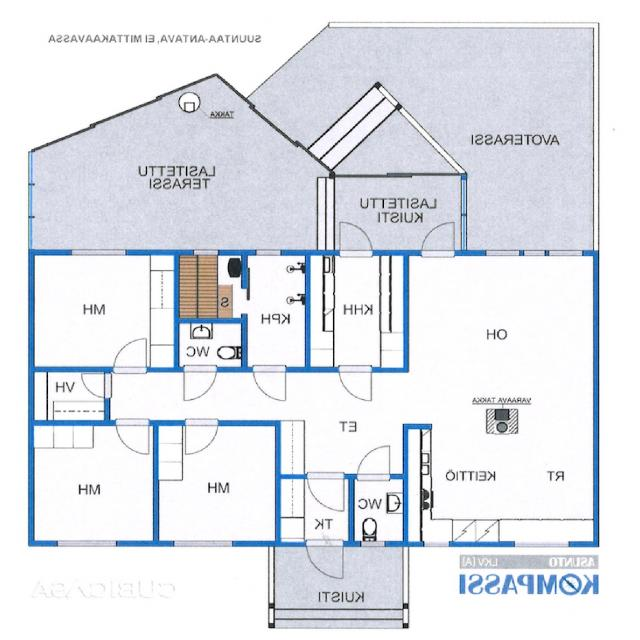door: (307, 541, 343, 581), (308, 474, 344, 514), (340, 219, 373, 256), (184, 367, 217, 403), (185, 420, 218, 456), (116, 421, 149, 456), (422, 220, 454, 256), (114, 336, 146, 372), (254, 367, 286, 402), (340, 367, 372, 402), (358, 444, 390, 479), (79, 373, 110, 398)
